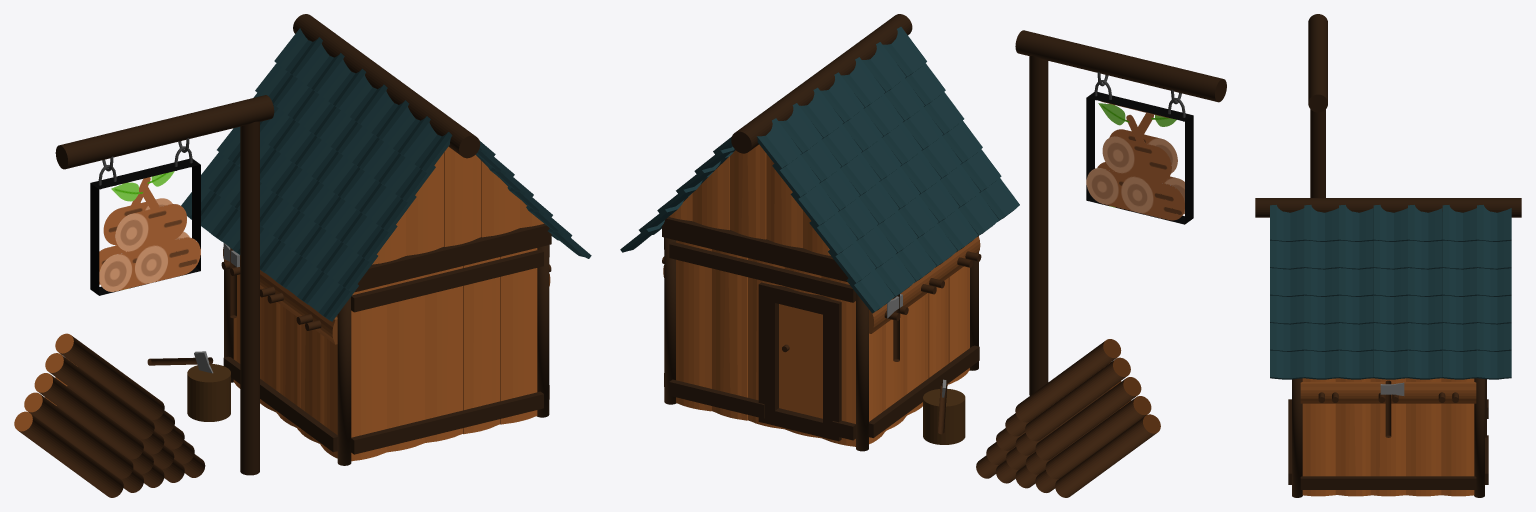
Rendered from LumberjackBuilding.fbx.
3 renders of one model, left to right at view 1: azimuth 30°, elevation 25°; view 2: azimuth 150°, elevation 25°; view 3: azimuth 270°, elevation 25°, orthographic. The views are drawn at different scales.
Parts seen in each view (by area): view 1: Cube.010, Cylinder.002, Cylinder.005, Icon, Cylinder.003, Cylinder.004; view 2: Cube.010, Cylinder.002, Cylinder.005, Icon, Cylinder.003; view 3: Cube.010, Cylinder.005, Cylinder.006.
Part boxes in pixels (<box>): Cube.010: <box>181,14,591,465</box>; Cylinder.002: <box>14,333,205,497</box>; Cylinder.005: <box>55,95,274,475</box>; Icon: <box>90,158,200,295</box>; Cylinder.003: <box>187,364,230,421</box>; Cylinder.004: <box>147,351,213,373</box>; Cube.010: <box>620,14,1019,451</box>; Cylinder.002: <box>976,339,1160,497</box>; Cylinder.005: <box>1015,30,1226,395</box>; Icon: <box>1086,92,1193,224</box>; Cylinder.003: <box>923,388,965,444</box>; Cube.010: <box>1255,198,1521,497</box>; Cylinder.005: <box>1308,14,1327,197</box>; Cylinder.006: <box>1380,380,1404,437</box>.
Bounding box in the file's own units: 2633 × 1879 × 1514.
